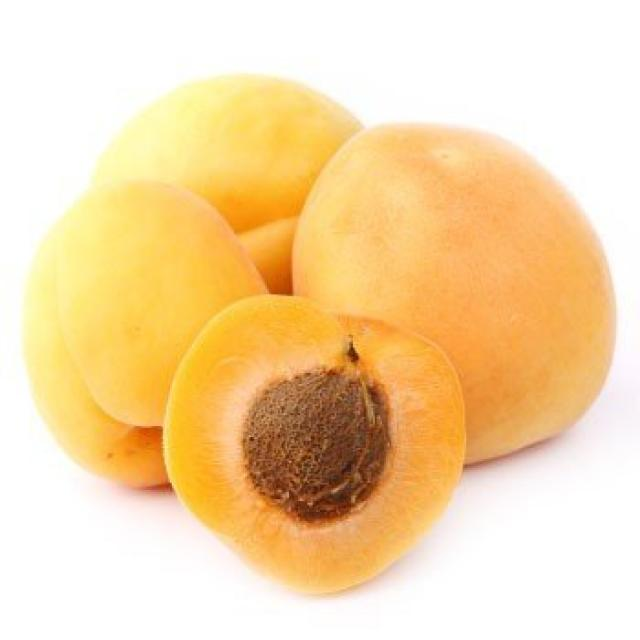kayisi: (291, 124, 620, 468), (163, 296, 466, 598), (22, 181, 271, 492), (95, 75, 362, 298)
kayisicekirdegi: (245, 370, 387, 524)
